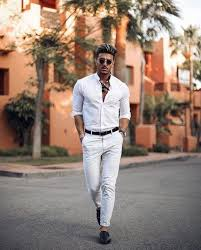F_belt: (79, 125, 124, 141)
